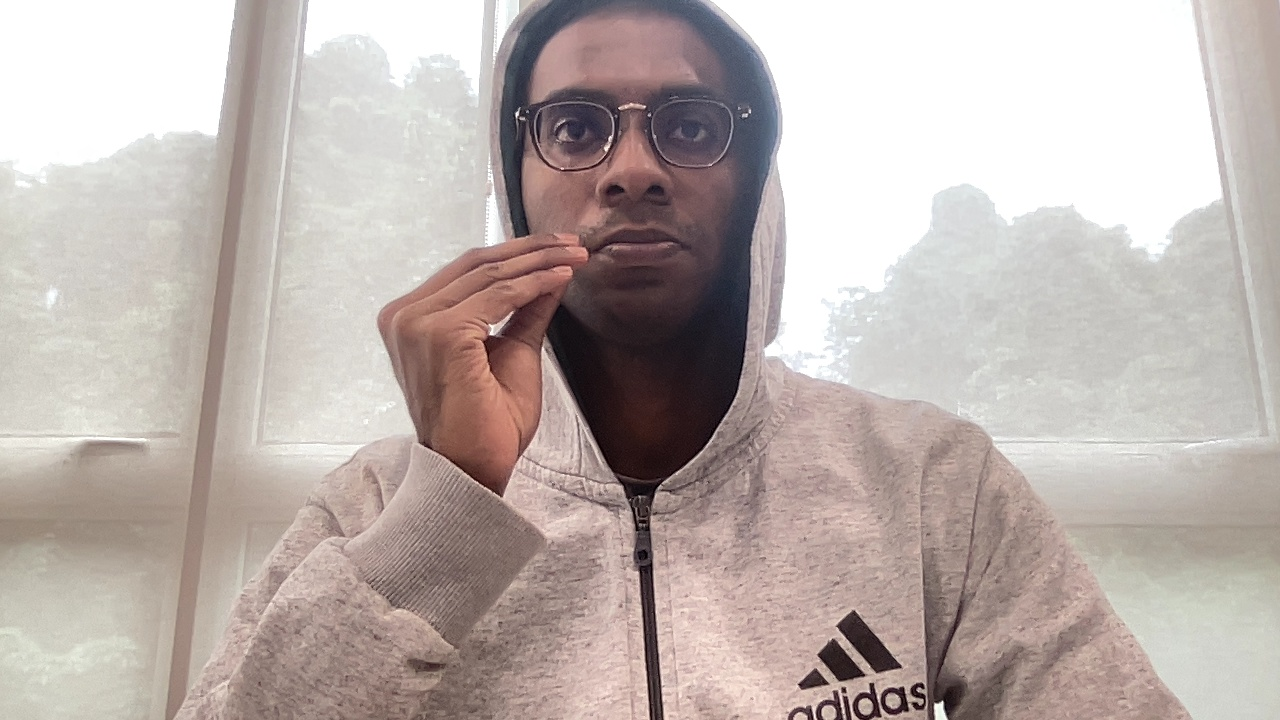eat: (374, 227, 590, 466)
